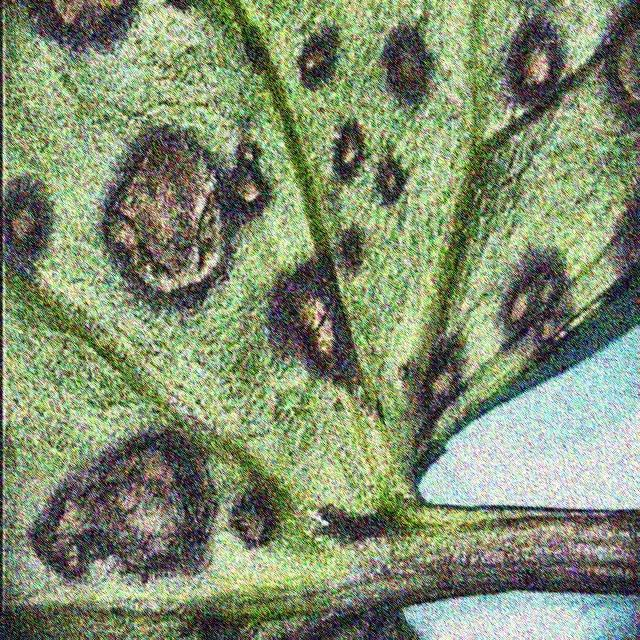leaf_spot: (7, 9, 407, 580)
